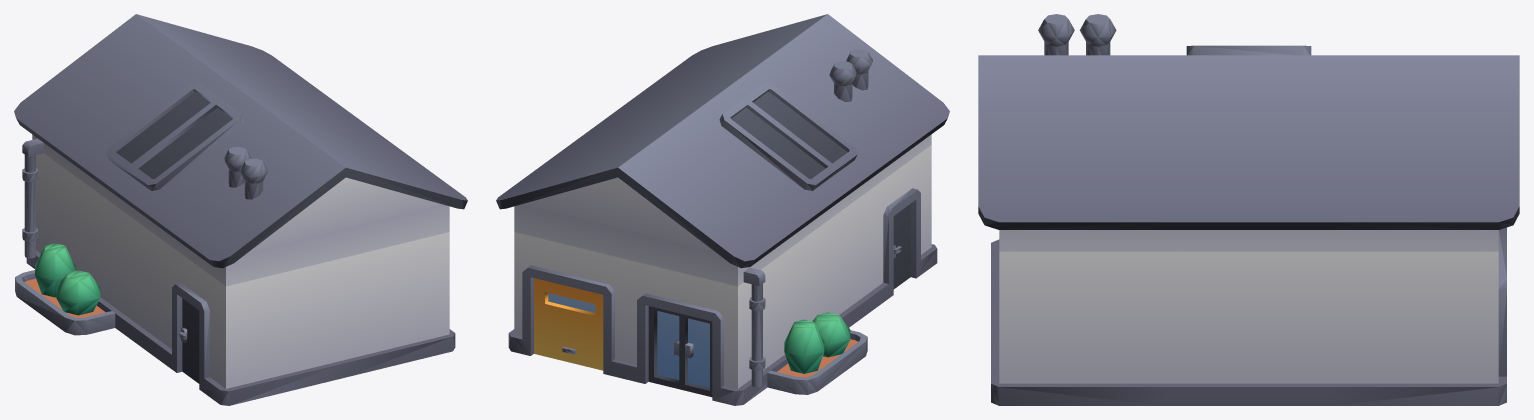
The model's file is ki_building_i.fbx.
3 renders of one model, left to right at view 1: azimuth 30°, elevation 25°; view 2: azimuth 150°, elevation 25°; view 3: azimuth 270°, elevation 25°, orthographic. The views are drawn at different scales.
Parts seen in each view (by area): view 1: ki_building_i_LOD0; view 2: ki_building_i_LOD0; view 3: ki_building_i_LOD0.
Part boxes in pixels (<box>): ki_building_i_LOD0: <box>14,14,467,405</box>; ki_building_i_LOD0: <box>496,14,949,405</box>; ki_building_i_LOD0: <box>978,14,1519,405</box>.
Size of what is drawn, in the model's own units: 8.74 by 6.24 by 11.05.
